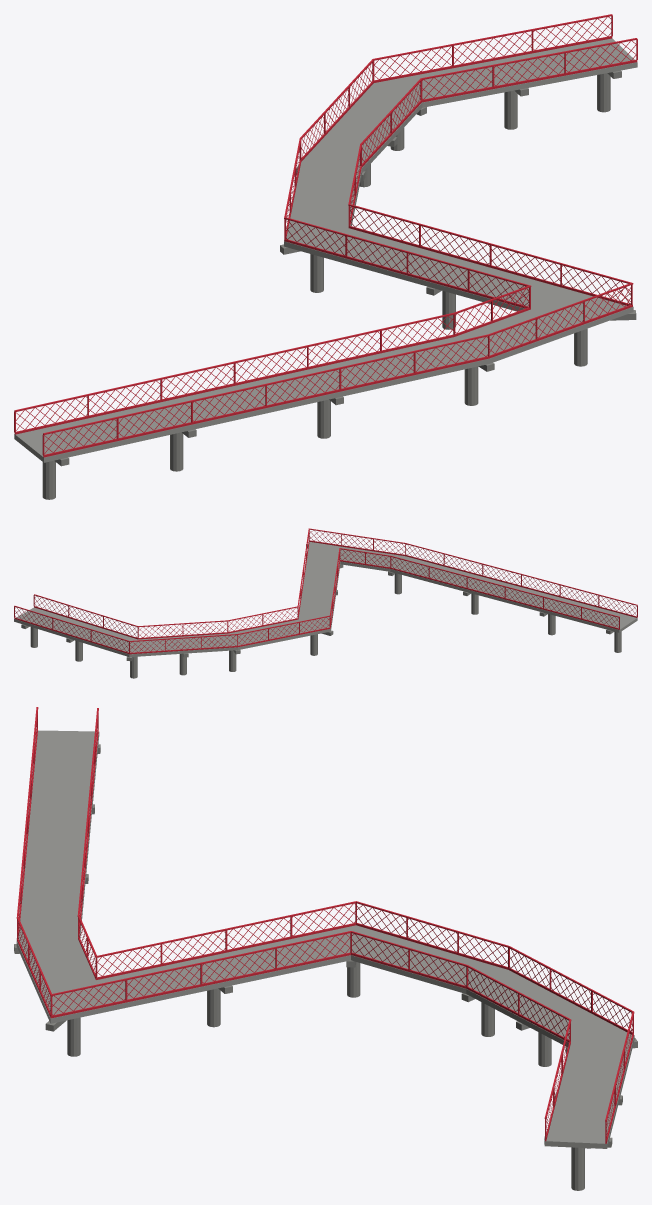
File: qiuhonggu_red_bridge.glb
3 views of the same model, one above another, from view 1: azimuth 30°, elevation 25°; view 2: azimuth 150°, elevation 25°; view 3: azimuth 270°, elevation 25° (orthographic). The views are drawn at different scales.
Parts seen in each view (by area): view 1: qiuhonggu_red_bridge_mesh; view 2: qiuhonggu_red_bridge_mesh; view 3: qiuhonggu_red_bridge_mesh.
Part boxes in pixels (<box>): qiuhonggu_red_bridge_mesh: <box>14,14,637,499</box>; qiuhonggu_red_bridge_mesh: <box>14,528,637,678</box>; qiuhonggu_red_bridge_mesh: <box>14,707,637,1190</box>.
Size of the model in its own units: 43.55 by 3.85 by 27.74.
